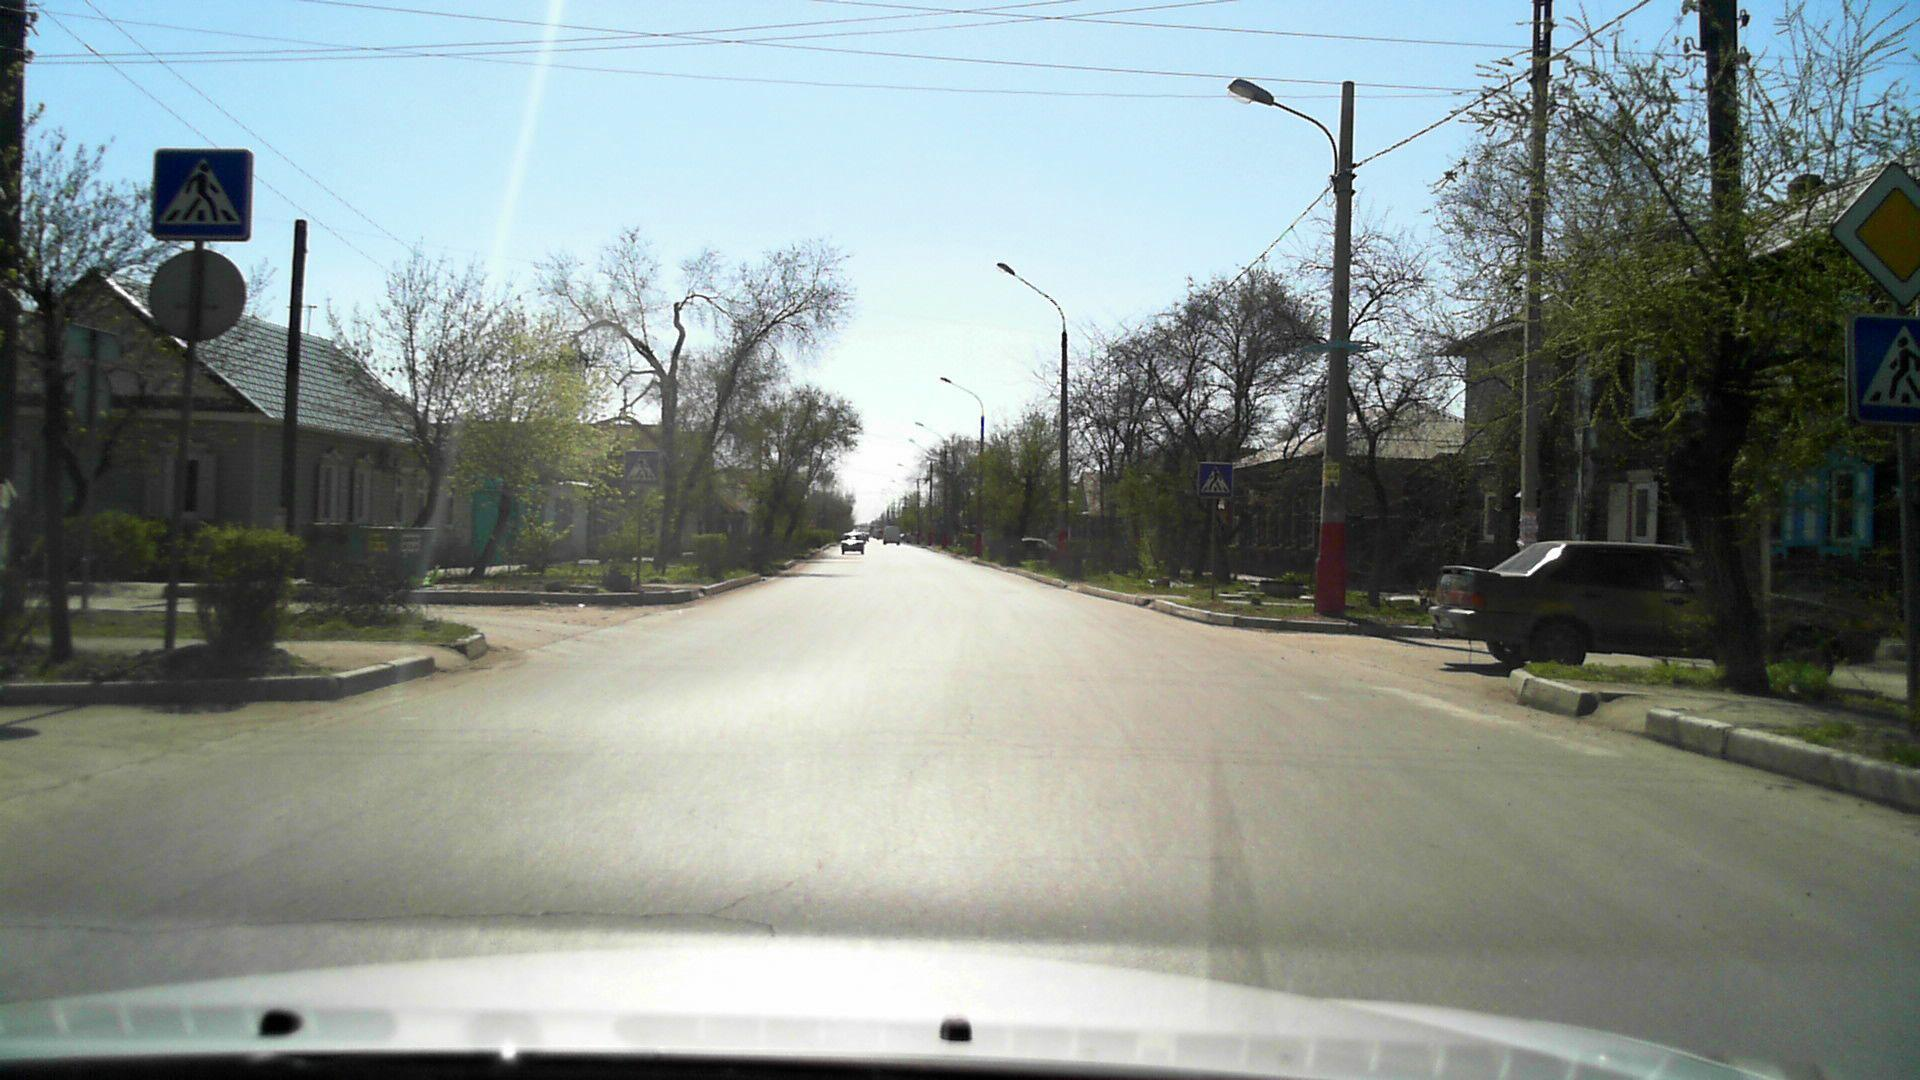2_1: (1827, 162, 1919, 312)
5_19_1: (1850, 320, 1920, 418), (1200, 460, 1236, 498)
5_19_2: (152, 150, 247, 238), (626, 449, 663, 484)
